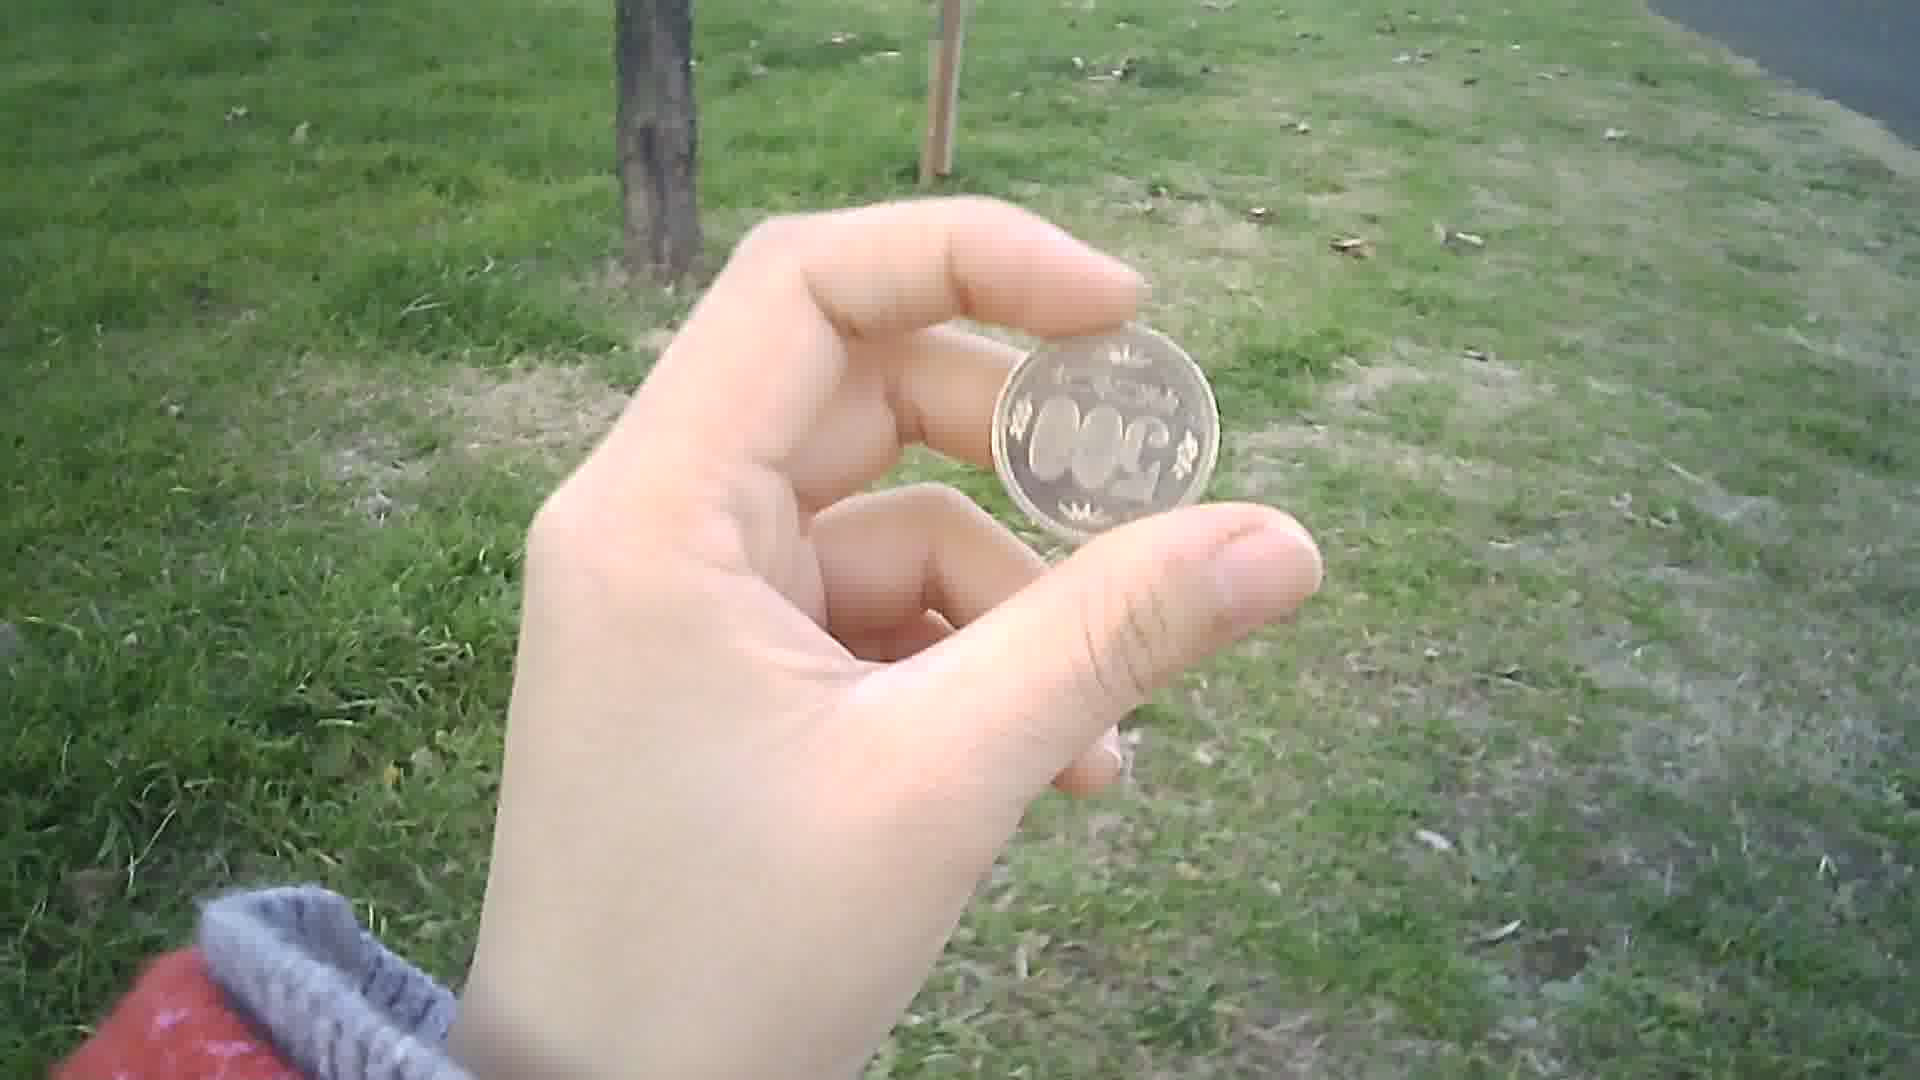500 Yen: (988, 320, 1240, 547)
